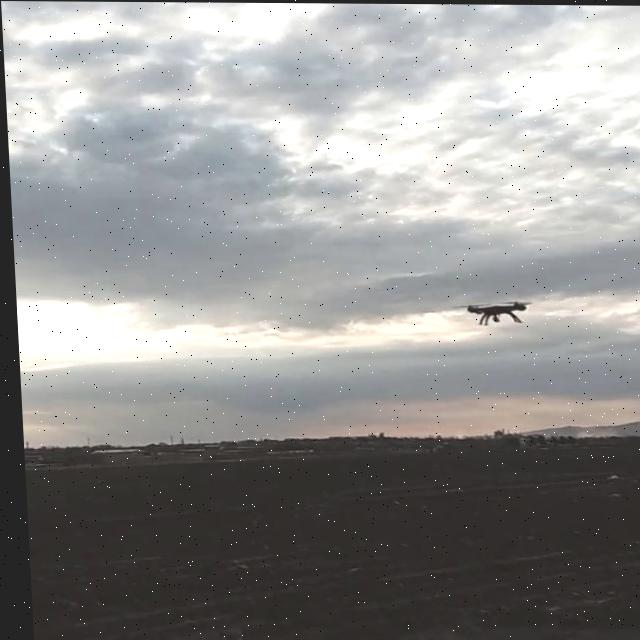drone: (452, 295, 533, 327)
